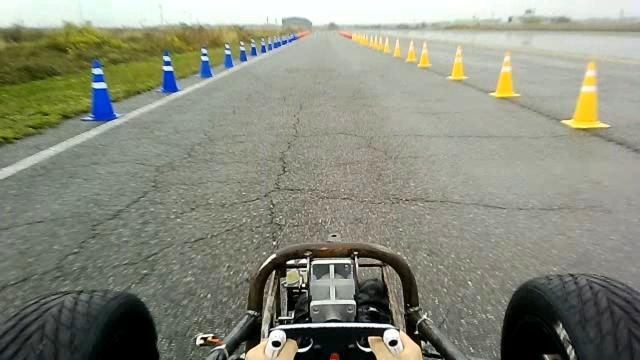blue cone: (80, 59, 122, 121), (157, 49, 180, 93), (198, 46, 213, 78), (222, 42, 234, 69), (238, 40, 248, 62), (250, 38, 258, 56), (260, 36, 267, 54), (272, 35, 280, 49), (266, 36, 272, 51)
yellow cone: (560, 61, 610, 129), (488, 51, 521, 98), (574, 62, 600, 121), (446, 44, 468, 81), (418, 40, 432, 68), (405, 39, 417, 63), (392, 38, 402, 58), (383, 36, 390, 54), (360, 34, 370, 46), (376, 36, 384, 51), (372, 34, 379, 50)
